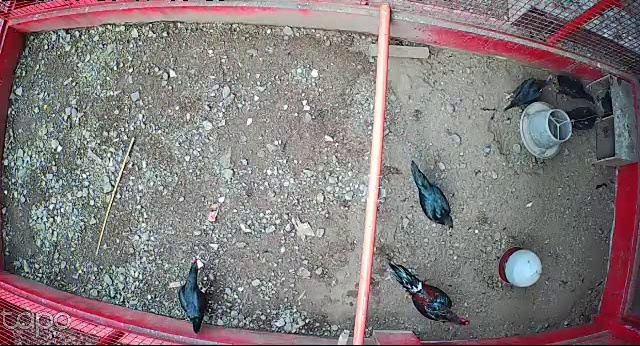Chicken: (407, 158, 456, 234), (178, 251, 212, 338), (503, 73, 555, 111), (548, 70, 596, 105), (563, 103, 603, 130)
Drinker: (497, 245, 542, 289)
Feeder: (520, 101, 572, 159)
Rooster: (389, 260, 471, 328)
